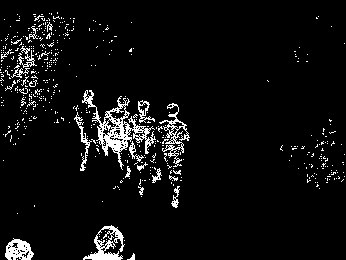person: (159, 102, 190, 208), (131, 98, 162, 197), (102, 92, 133, 188), (73, 87, 100, 172)
